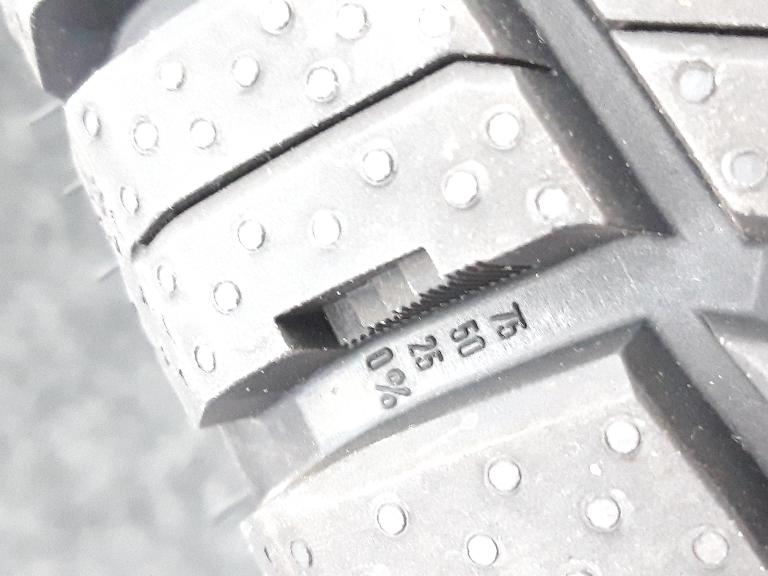temoin:100: (265, 238, 546, 364)
